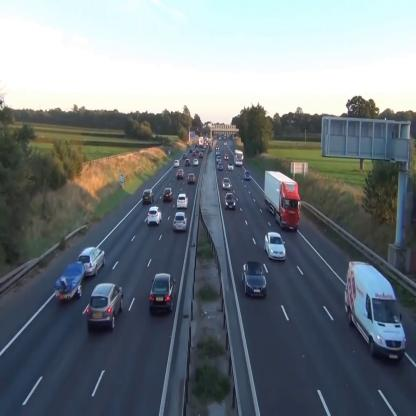car: (87, 282, 124, 332), (150, 272, 176, 317), (241, 262, 266, 296), (78, 246, 106, 273), (264, 233, 286, 261), (147, 207, 162, 226), (173, 212, 187, 232), (225, 193, 236, 210), (177, 193, 188, 209), (163, 187, 174, 202), (143, 189, 154, 203), (222, 178, 231, 190), (244, 169, 251, 180), (177, 168, 184, 178), (188, 173, 195, 183), (217, 162, 224, 170), (228, 162, 234, 171), (174, 159, 179, 167), (193, 158, 198, 165), (186, 158, 190, 166), (224, 153, 228, 160), (183, 153, 187, 159)
lorry: (344, 261, 406, 362), (265, 170, 300, 232), (234, 150, 244, 166)
